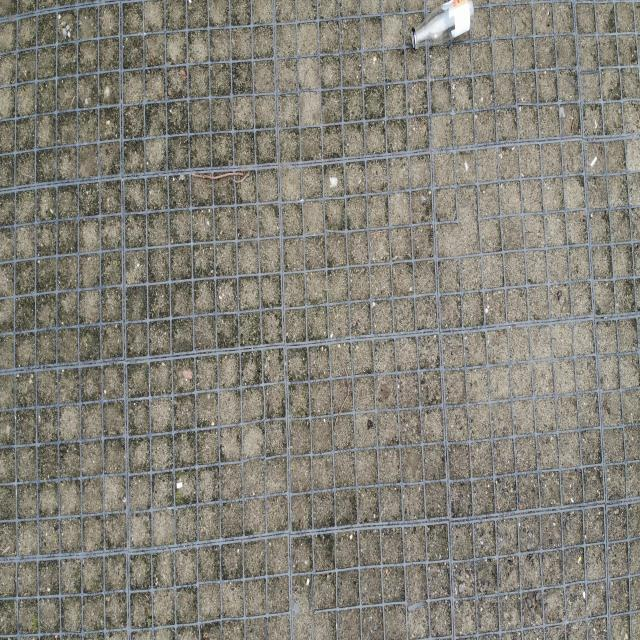rubbish: (411, 0, 474, 49)
